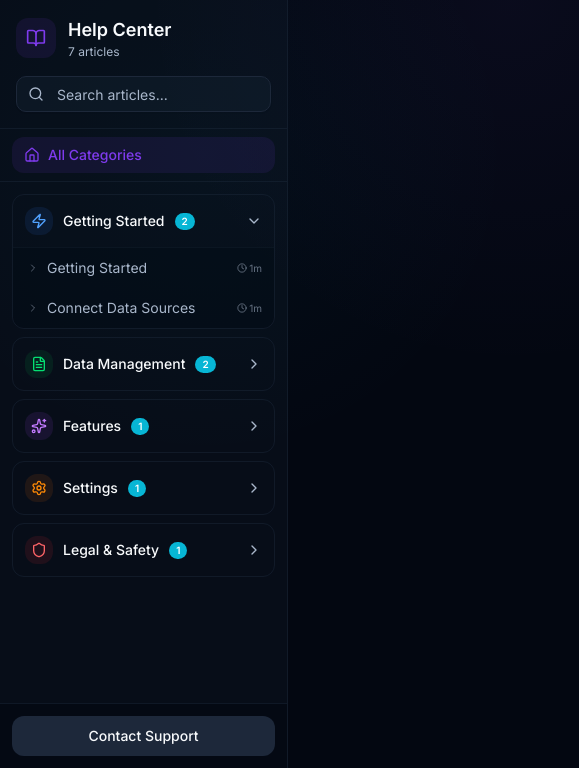
Test: HelpSidebar Component › Search › should filter articles by title
Type "upload" into the field with placeholder "Search articles..." at x=144, y=94, box [16,76,271,112]
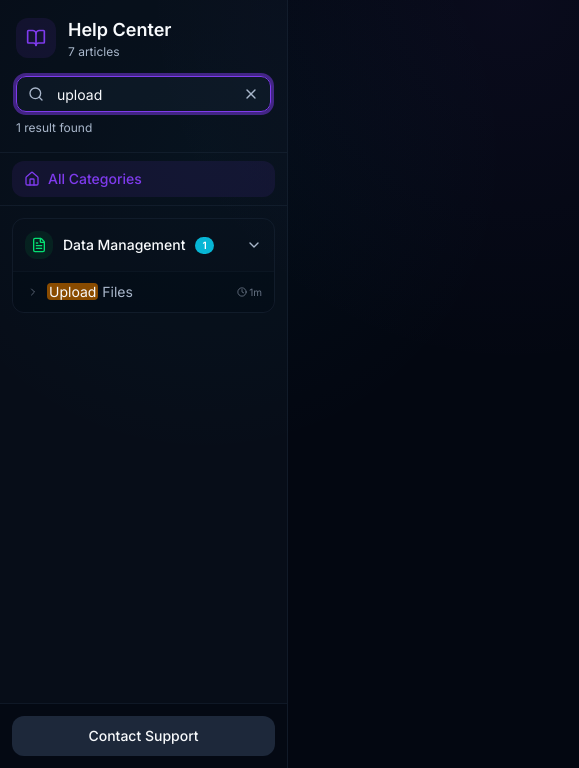
Expected: the text "1 result found" is shown, [16,120,92,135]
